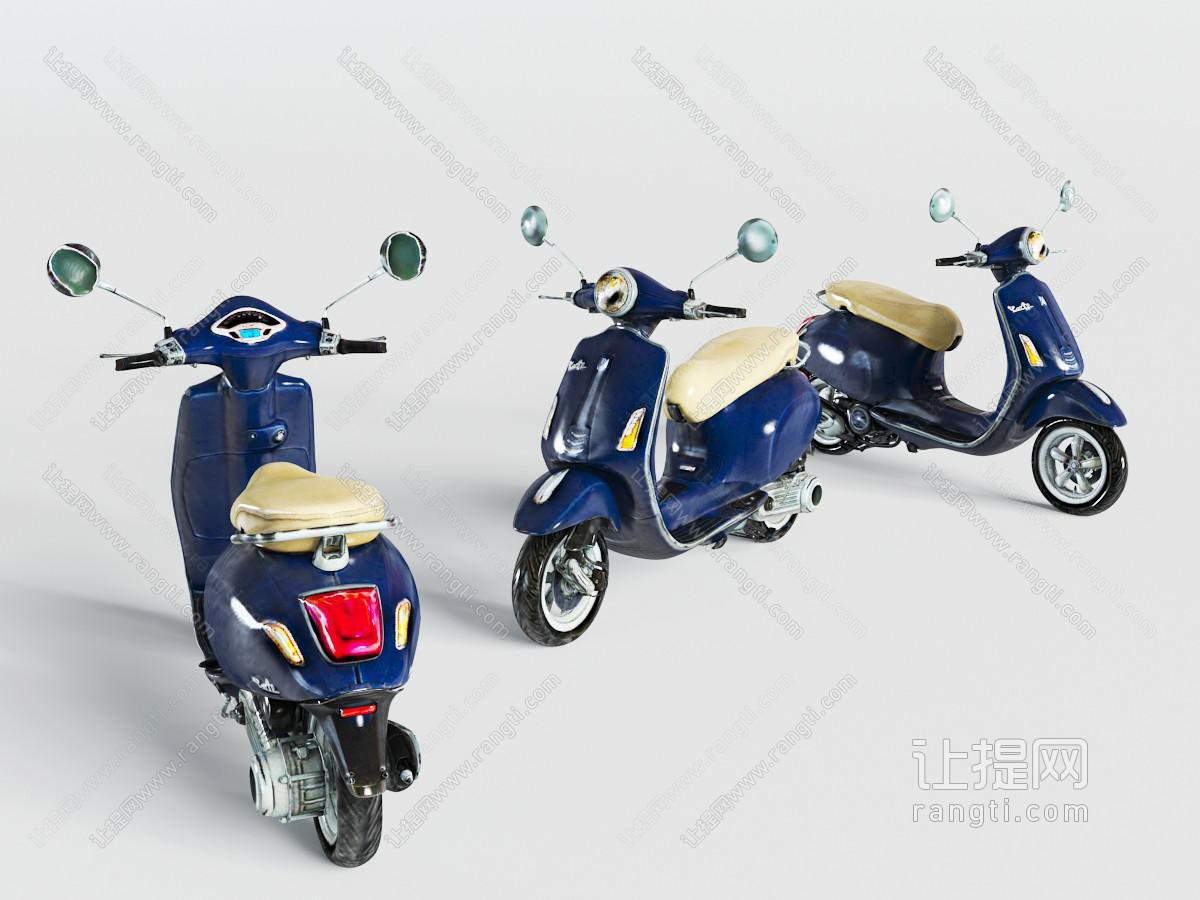MNV: (48, 238, 429, 866), (512, 201, 831, 641)
